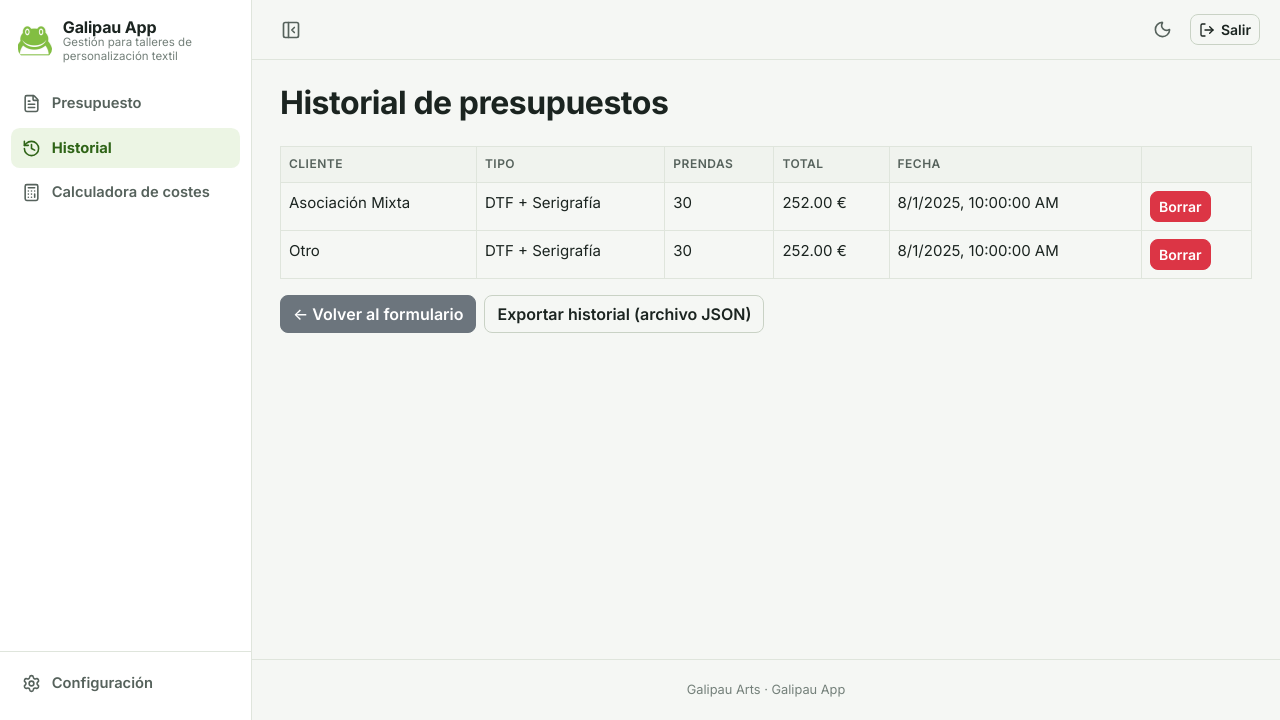
Test: App — navegación › borra un presupuesto desde el historial
Click the button "Borrar" in the row of "Asociación Mixta": (1180, 206) [1150,191,1211,222]
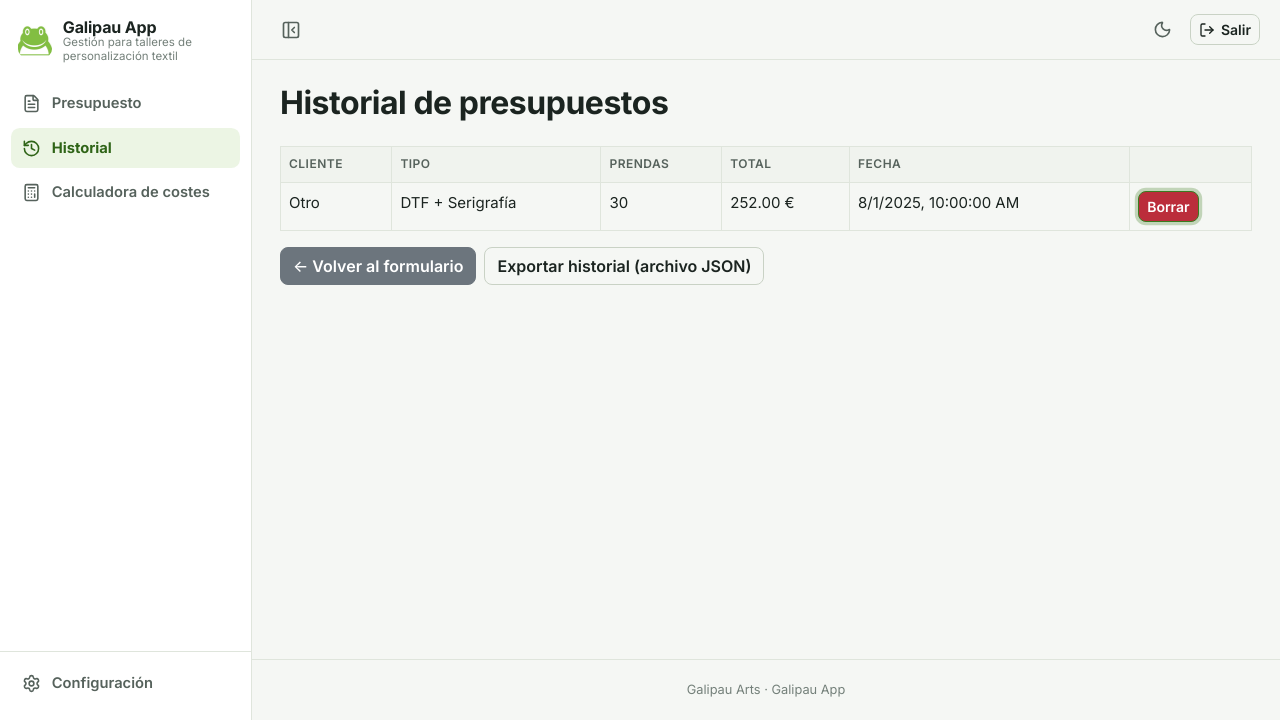
Result: the text "Asociación Mixta" is gone
